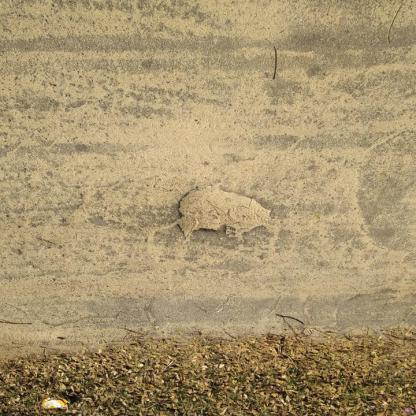pothole: (174, 188, 276, 245)
